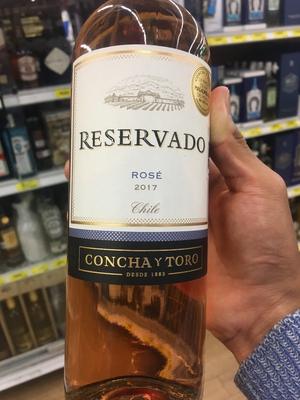reservado rose: (64, 5, 213, 400)
